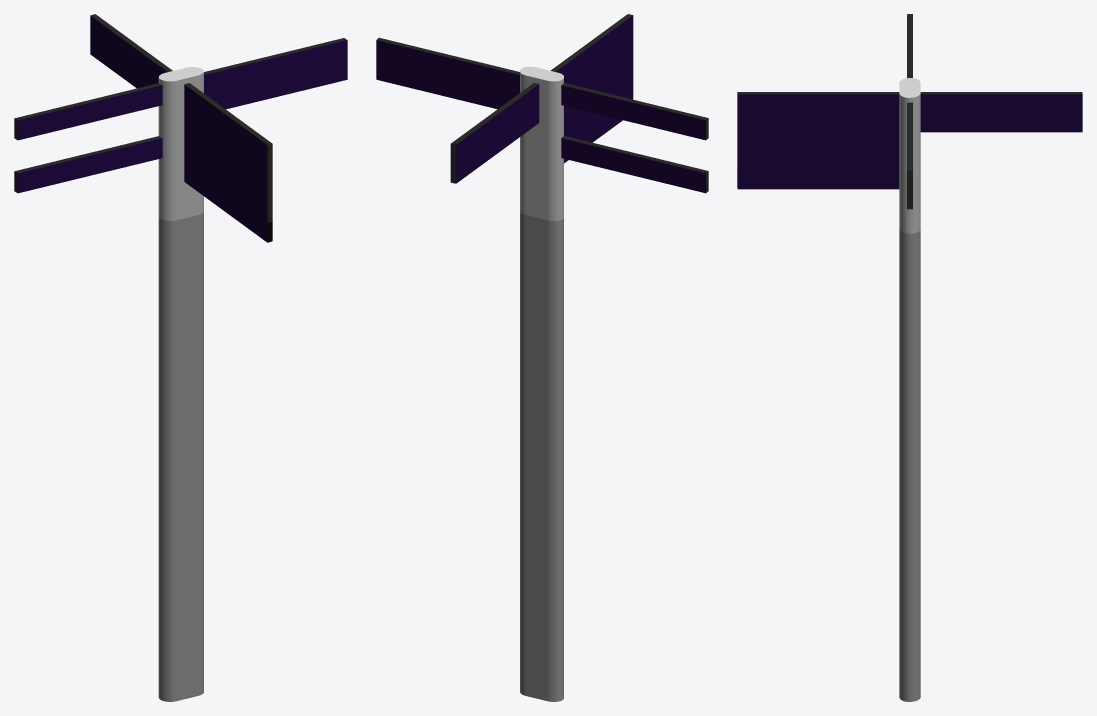
The model's file is Road_sign.glb.
3 renders of one model, left to right at view 1: azimuth 30°, elevation 25°; view 2: azimuth 150°, elevation 25°; view 3: azimuth 270°, elevation 25°, orthographic. The views are drawn at different scales.
Visible parts, largest first — view 1: Cube, 立方体.009, 立方体.010, 立方体.007, 立方体.008, 立方体, 立方体.005, 立方体.001, 立方体.002, 立方体.004, 立方体.003, 立方体.006; view 2: Cube, 立方体.009, 立方体.010, 立方体.007, 立方体.008, 立方体.005, 立方体, 立方体.006, 立方体.001, 立方体.002, 立方体.003, 立方体.004; view 3: Cube, 立方体, 立方体.005, 立方体.004, 立方体.006, 立方体.003, 立方体.002, 立方体.001.
Part boxes in pixels (box(x1,y1,x2,y2)): Cube: box(158, 67, 203, 701); 立方体.009: box(14, 83, 162, 140); 立方体.010: box(14, 136, 162, 193); 立方体.007: box(204, 38, 347, 94); 立方体.008: box(206, 60, 347, 109); 立方体: box(184, 83, 272, 164); 立方体.005: box(90, 14, 172, 83); 立方体.001: box(184, 104, 272, 184); 立方体.002: box(184, 124, 272, 204); 立方体.004: box(184, 163, 272, 242); 立方体.003: box(184, 143, 272, 223); 立方体.006: box(90, 35, 155, 88); Cube: box(520, 66, 563, 701); 立方体.009: box(561, 83, 708, 140); 立方体.010: box(561, 136, 708, 193); 立方体.007: box(376, 37, 519, 94); 立方体.008: box(376, 60, 517, 109); 立方体.005: box(450, 83, 539, 164); 立方体: box(550, 14, 633, 83); 立方体.006: box(450, 103, 539, 183); 立方体.001: box(567, 35, 633, 88); 立方体.002: box(564, 55, 633, 124); 立方体.003: box(564, 74, 633, 137); 立方体.004: box(564, 93, 633, 163); Cube: box(899, 78, 920, 701); 立方体: box(737, 92, 899, 113); 立方体.005: box(920, 92, 1082, 113); 立方体.004: box(737, 169, 899, 189); 立方体.006: box(920, 113, 1082, 132); 立方体.003: box(737, 150, 899, 170); 立方体.002: box(737, 132, 899, 151); 立方体.001: box(737, 113, 899, 132).
Bounding box in the file's own units: 11.14 × 20 × 10.37.
